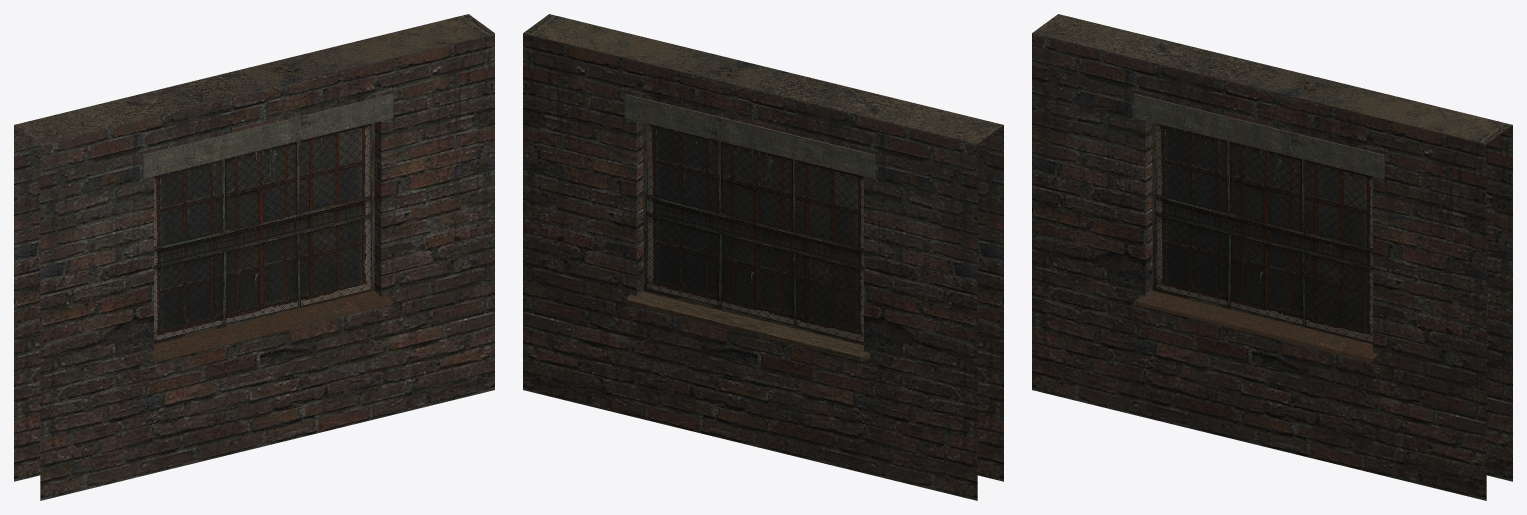
File: window_hs_1.dae
3 renders of one model, left to right at view 1: azimuth 30°, elevation 25°; view 2: azimuth 150°, elevation 25°; view 3: azimuth 330°, elevation 25°, orthographic.
Visible parts, largest first — view 1: window_hs_1; view 2: window_hs_1; view 3: window_hs_1.
Boxes of the visible parts, x1,y1,x2,y2 form: window_hs_1: (14, 14, 494, 500); window_hs_1: (523, 14, 1003, 500); window_hs_1: (1032, 14, 1512, 500).
Bounding box in the file's own units: 4 × 0.595 × 3.
6 materials, 6 textured.
